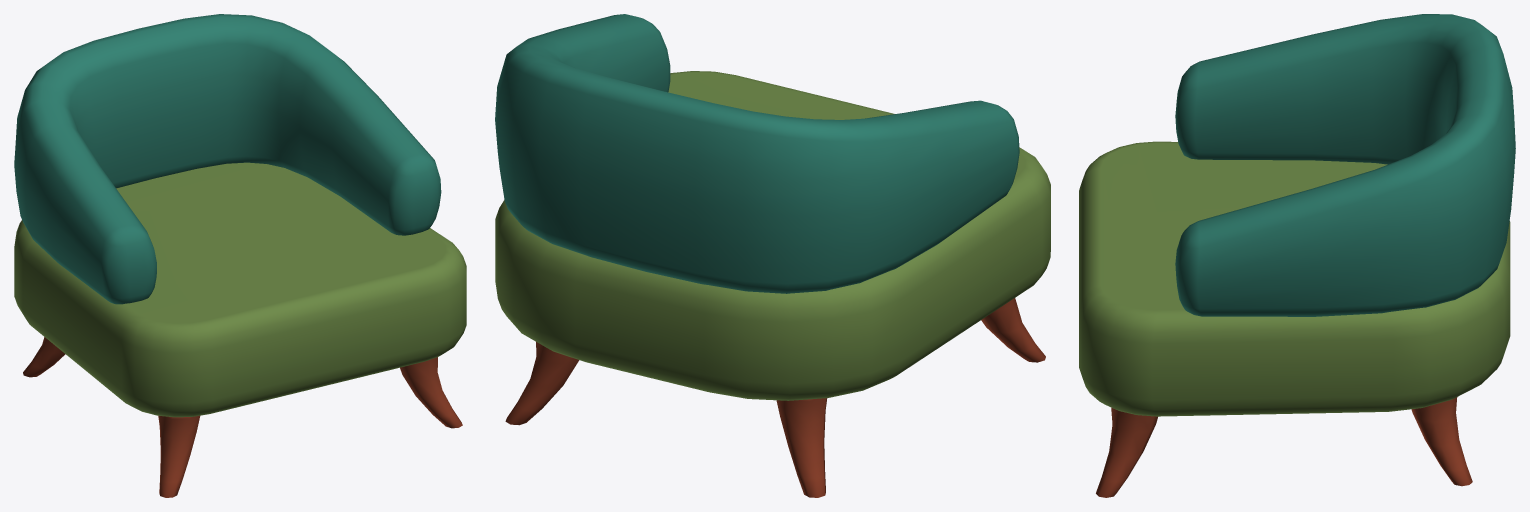
The model's file is Armchair_11.glb.
3 views of the same model, side by side, from view 1: azimuth 30°, elevation 25°; view 2: azimuth 150°, elevation 25°; view 3: azimuth 270°, elevation 25° (orthographic). The views are drawn at different scales.
Parts seen in each view (by area): view 1: Armchair_11; view 2: Armchair_11; view 3: Armchair_11.
Part boxes in pixels (<box>): Armchair_11: <box>14,14,466,497</box>; Armchair_11: <box>495,14,1050,497</box>; Armchair_11: <box>1079,14,1515,497</box>.
Size of the model in its own units: 0.9541 by 0.8251 by 0.9451.
1 material, 1 textured.
